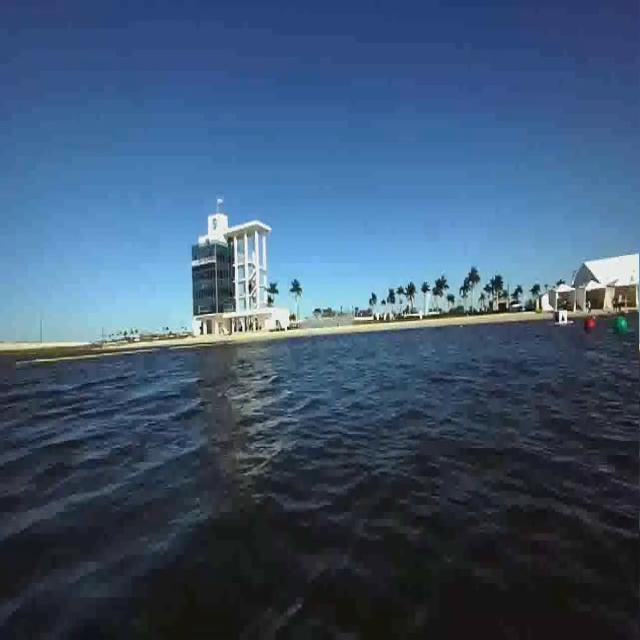green-buoy: (616, 317, 630, 333)
red-buoy: (585, 314, 598, 334)
